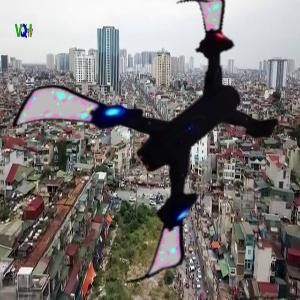drone: (39, 20, 294, 275)
